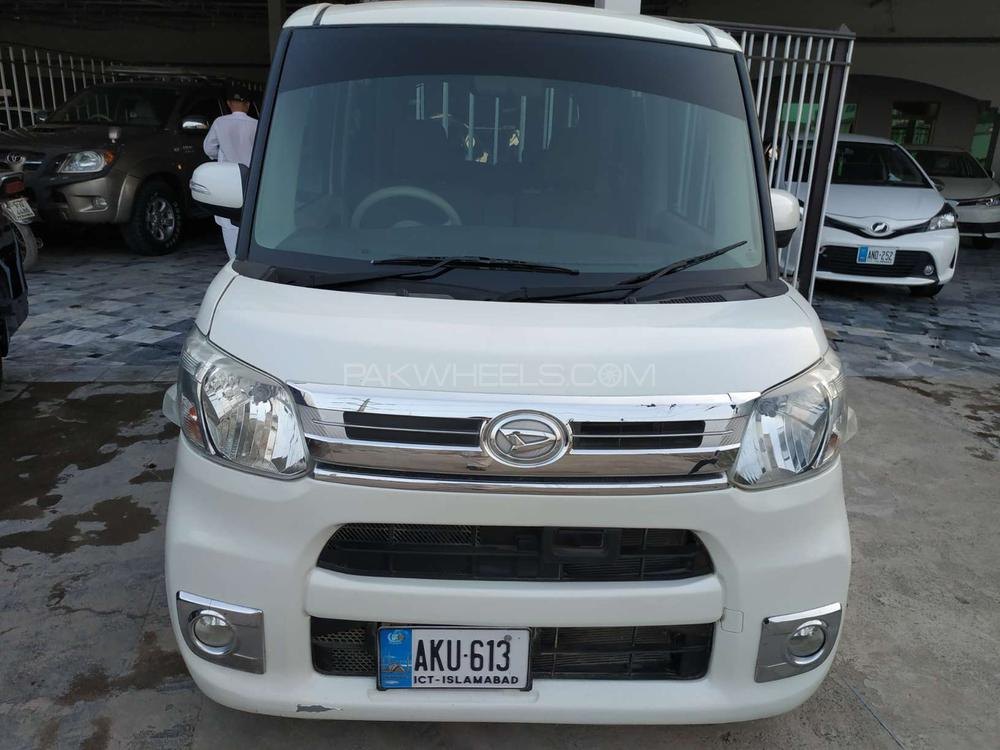license plate: (381, 630, 528, 686)
